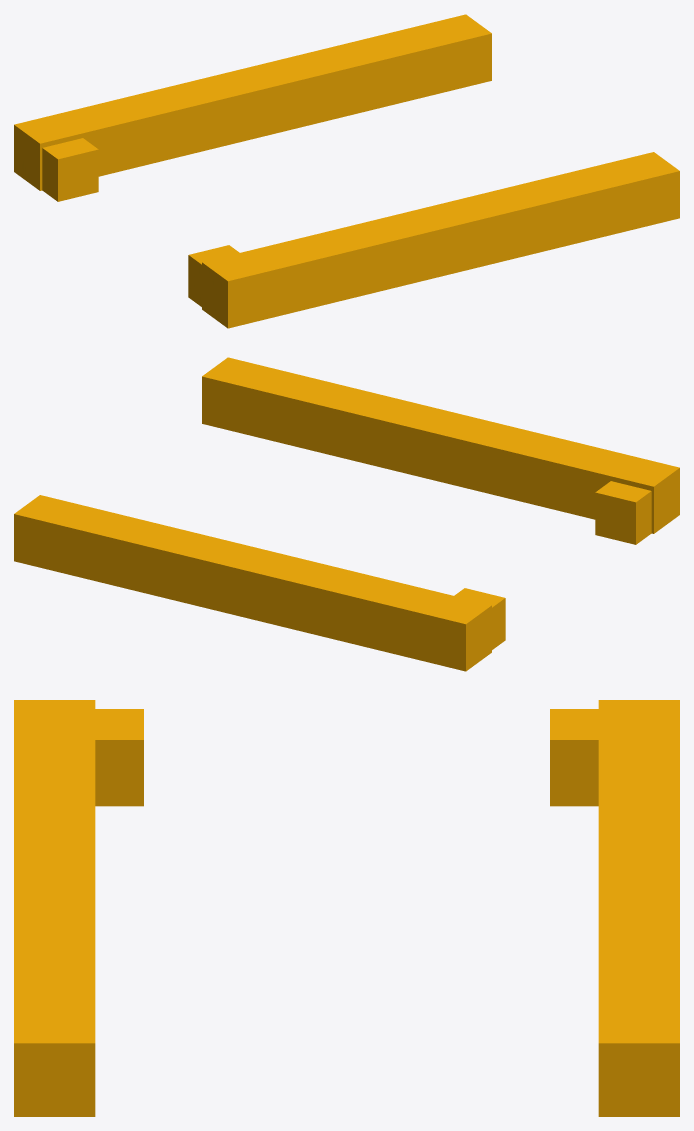
The model's file is BotManipulator.fbx.
The picture shows the model from 3 angles, top to bottom: view 1: azimuth 30°, elevation 25°; view 2: azimuth 150°, elevation 25°; view 3: azimuth 270°, elevation 25°; orthographic projection. The views are drawn at different scales.
Parts seen in each view (by area): view 1: mergedBlocks; view 2: mergedBlocks; view 3: mergedBlocks.
Part boxes in pixels (x1=…): mergedBlocks: x1=14, y1=14, x2=679, y2=328; mergedBlocks: x1=14, y1=357, x2=679, y2=671; mergedBlocks: x1=14, y1=700, x2=679, y2=1116.
Bounding box in the file's own units: 20 × 2 × 16.4.
